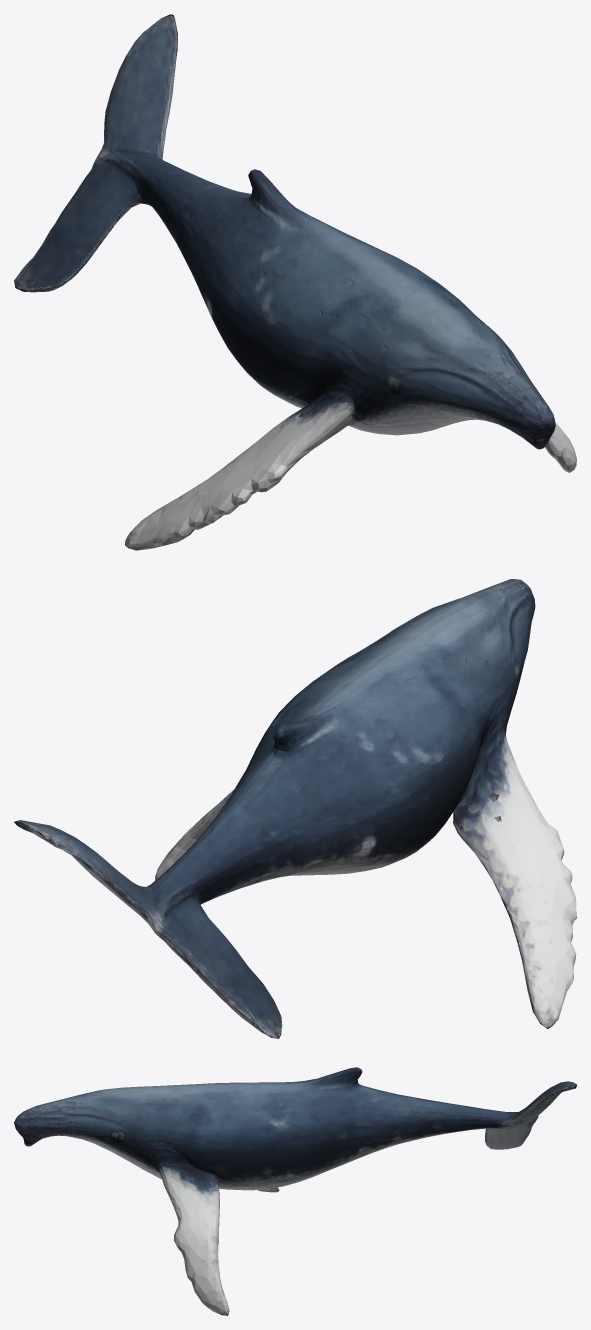
File: whale.glb
The picture shows the model from 3 angles, top to bottom: view 1: azimuth 30°, elevation 25°; view 2: azimuth 150°, elevation 25°; view 3: azimuth 270°, elevation 25°; orthographic projection. The views are drawn at different scales.
Visible parts, largest first — view 1: geometry_0; view 2: geometry_0; view 3: geometry_0.
Boxes of the visible parts, bbox=[...] form: geometry_0: bbox=[14, 14, 576, 550]; geometry_0: bbox=[14, 579, 576, 1038]; geometry_0: bbox=[14, 1067, 576, 1315].
Bounding box in the file's own units: 0.5517 × 0.3803 × 0.9993.
Materials: 1 (1 with a texture image).
